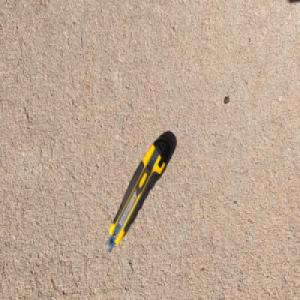Cutter: (104, 135, 172, 254)
